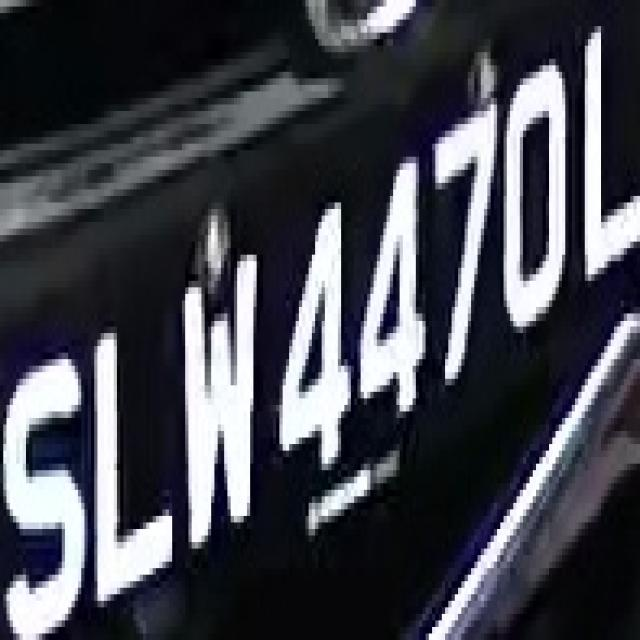0: (507, 39, 565, 346)
4: (348, 137, 428, 451), (273, 183, 351, 503)
7: (429, 91, 503, 392)
L: (81, 307, 169, 614), (575, 6, 640, 307)
W: (176, 254, 270, 562)
